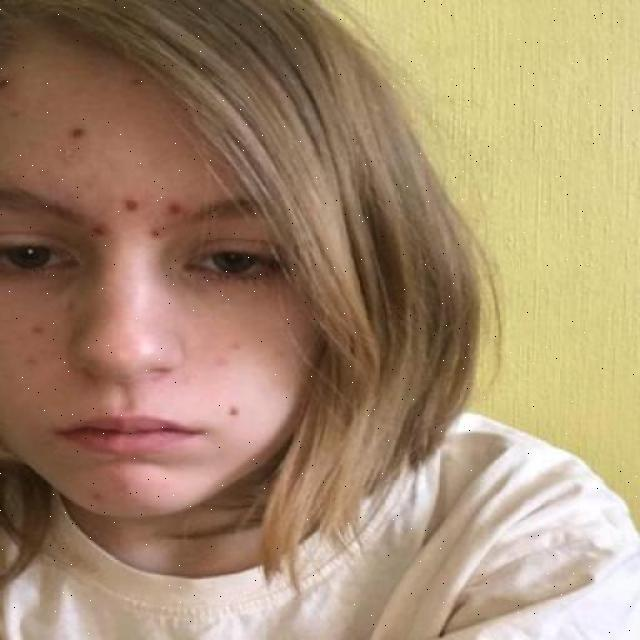Acne: (0, 62, 245, 436)
